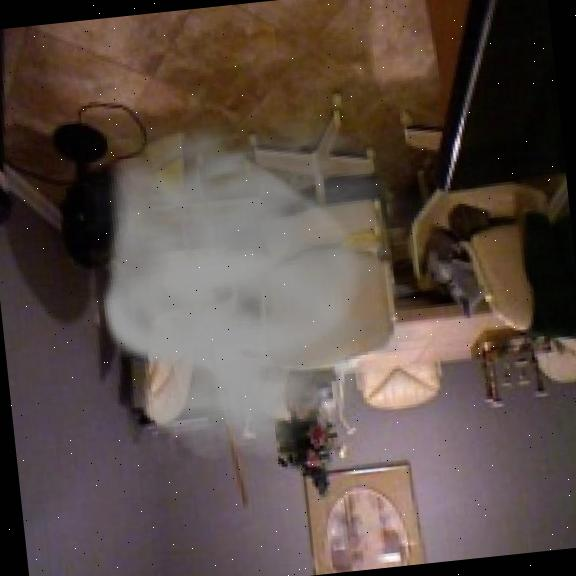smoke: (75, 76, 474, 475)
